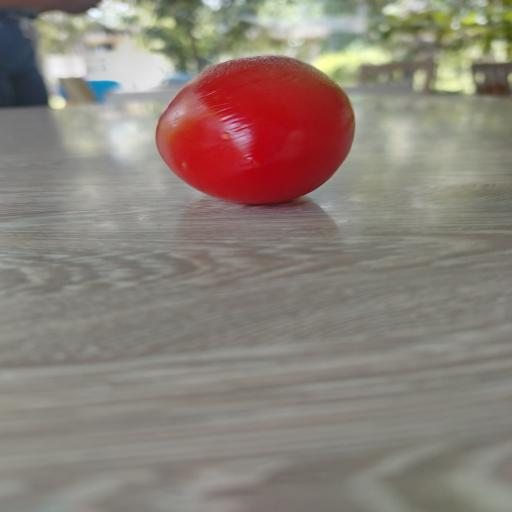spoiled: (156, 56, 355, 204)
